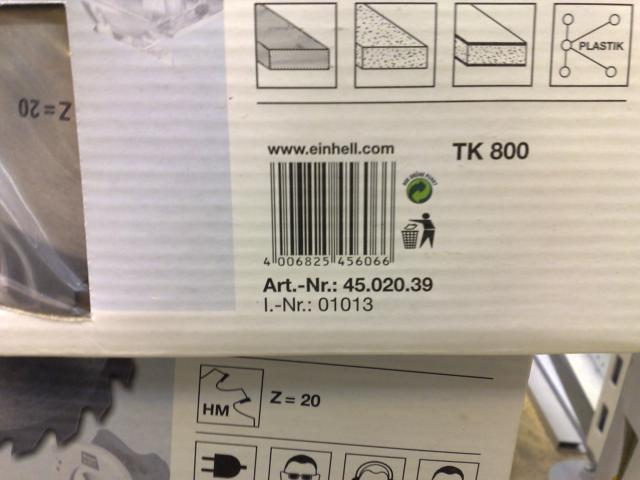Barcode: (257, 157, 400, 272)
